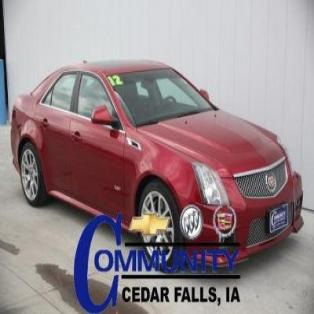Auto: (9, 60, 306, 272)
